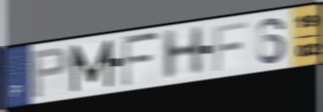6: (256, 16, 287, 65)
F: (121, 30, 162, 89), (212, 20, 249, 73)
H: (161, 24, 205, 83)
M: (69, 38, 114, 94)
P: (31, 46, 70, 101)
